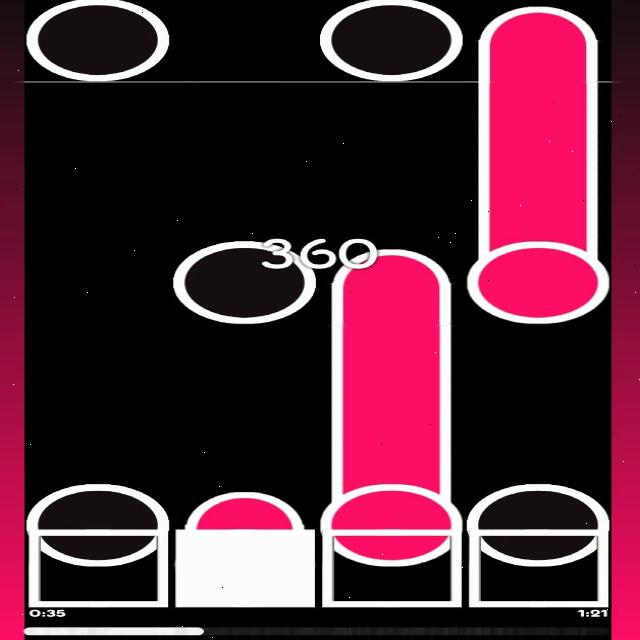end_hold: (329, 236, 453, 292), (179, 483, 309, 529), (477, 0, 599, 48)
note: (170, 239, 316, 326), (26, 483, 169, 568), (25, 0, 168, 84), (320, 0, 463, 84), (466, 484, 610, 566)
start_hold: (466, 224, 610, 324), (322, 469, 462, 566)
